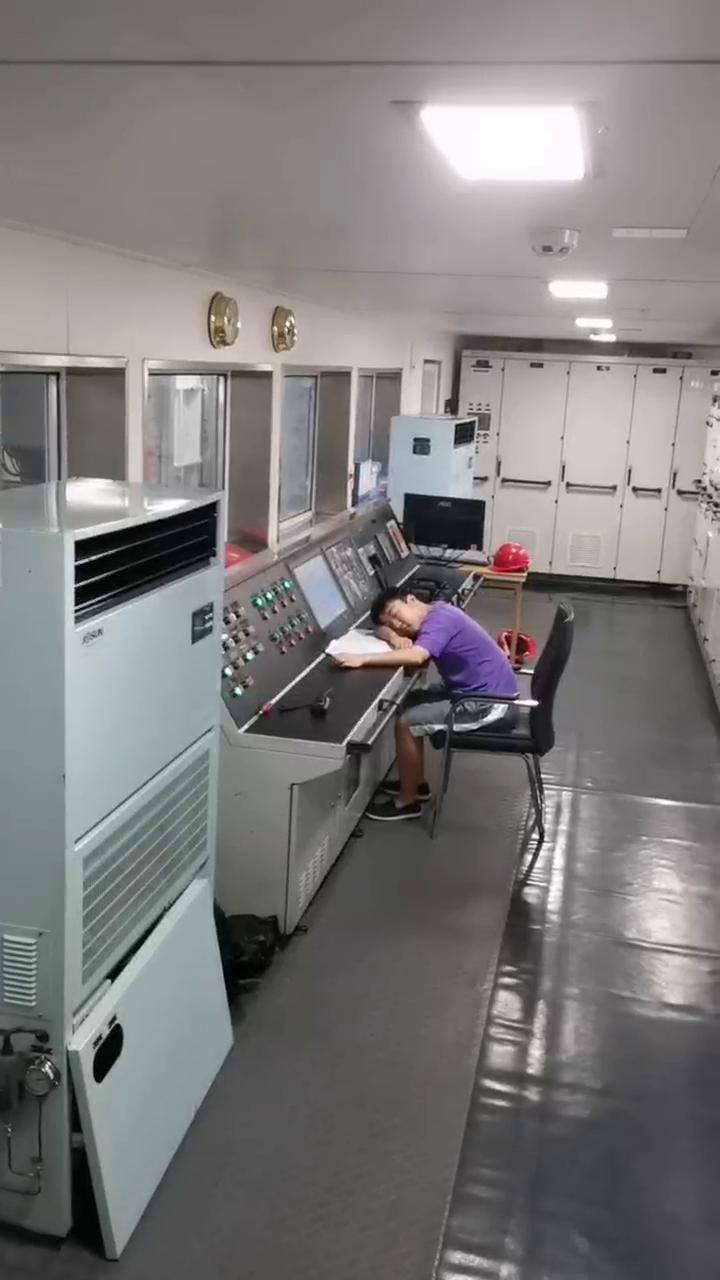sleep: (321, 592, 525, 737)
